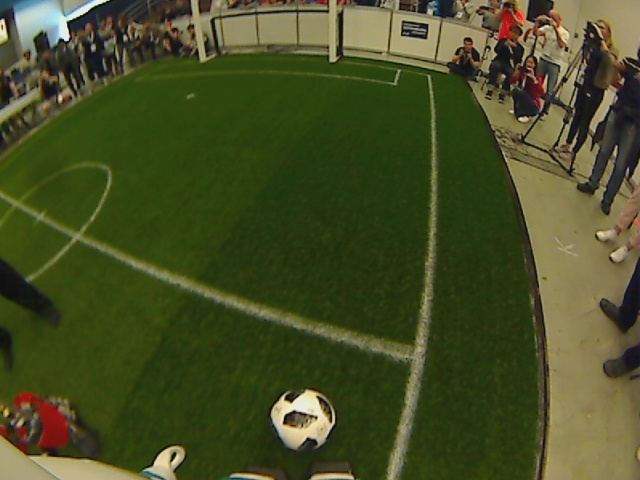ball: (269, 386, 336, 457)
